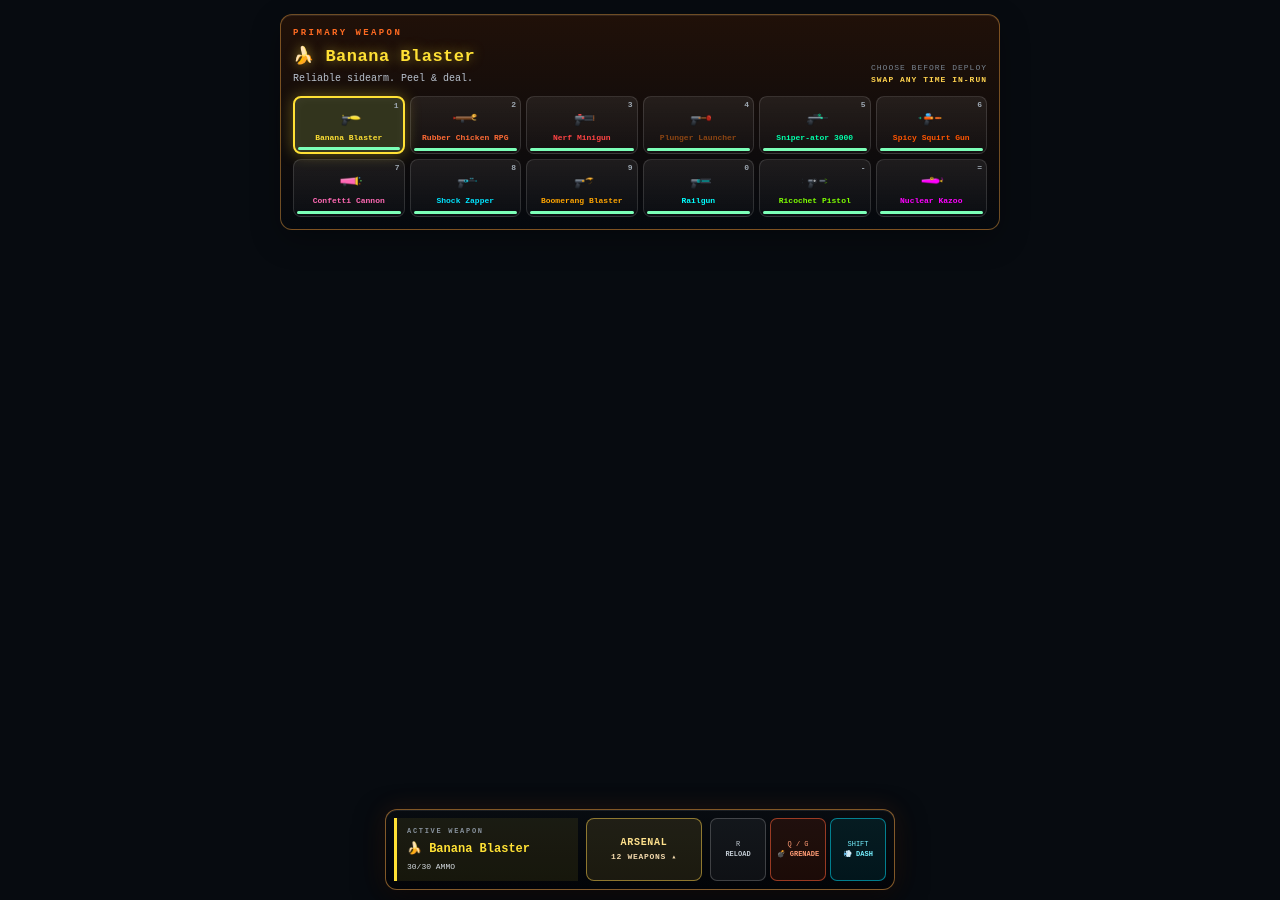
Test: WeaponDock › keeps twelve pre-run choices but collapses the combat dock until requested
Click the button "ARSENAL 12 WEAPONS ▴".
click(644, 849)  # box top-left (586, 818), bottom-right (702, 881)
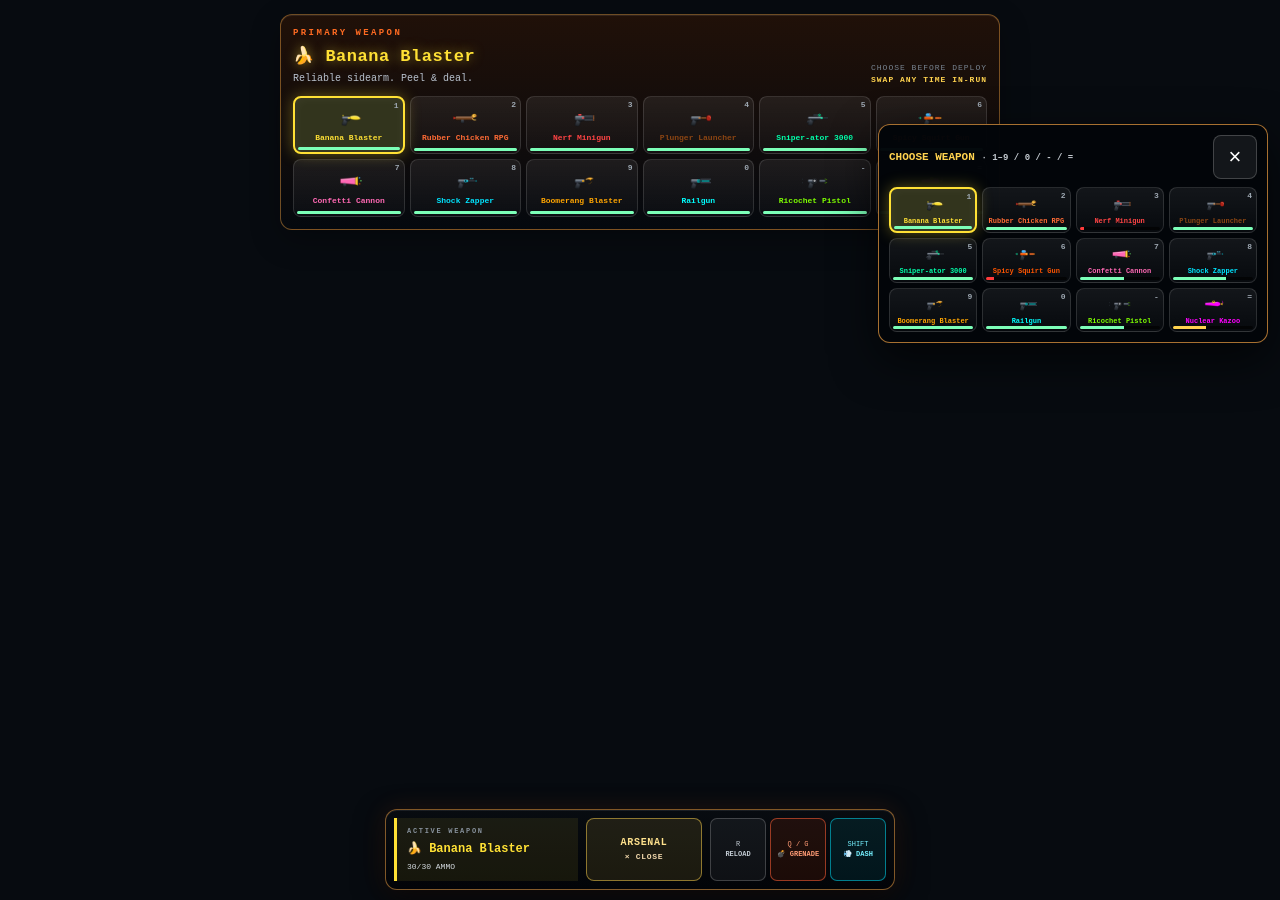
Click the button with class "weapon-dock__weapon" below "CHOOSE WEAPON".
click(933, 260)  # box top-left (889, 238), bottom-right (977, 283)
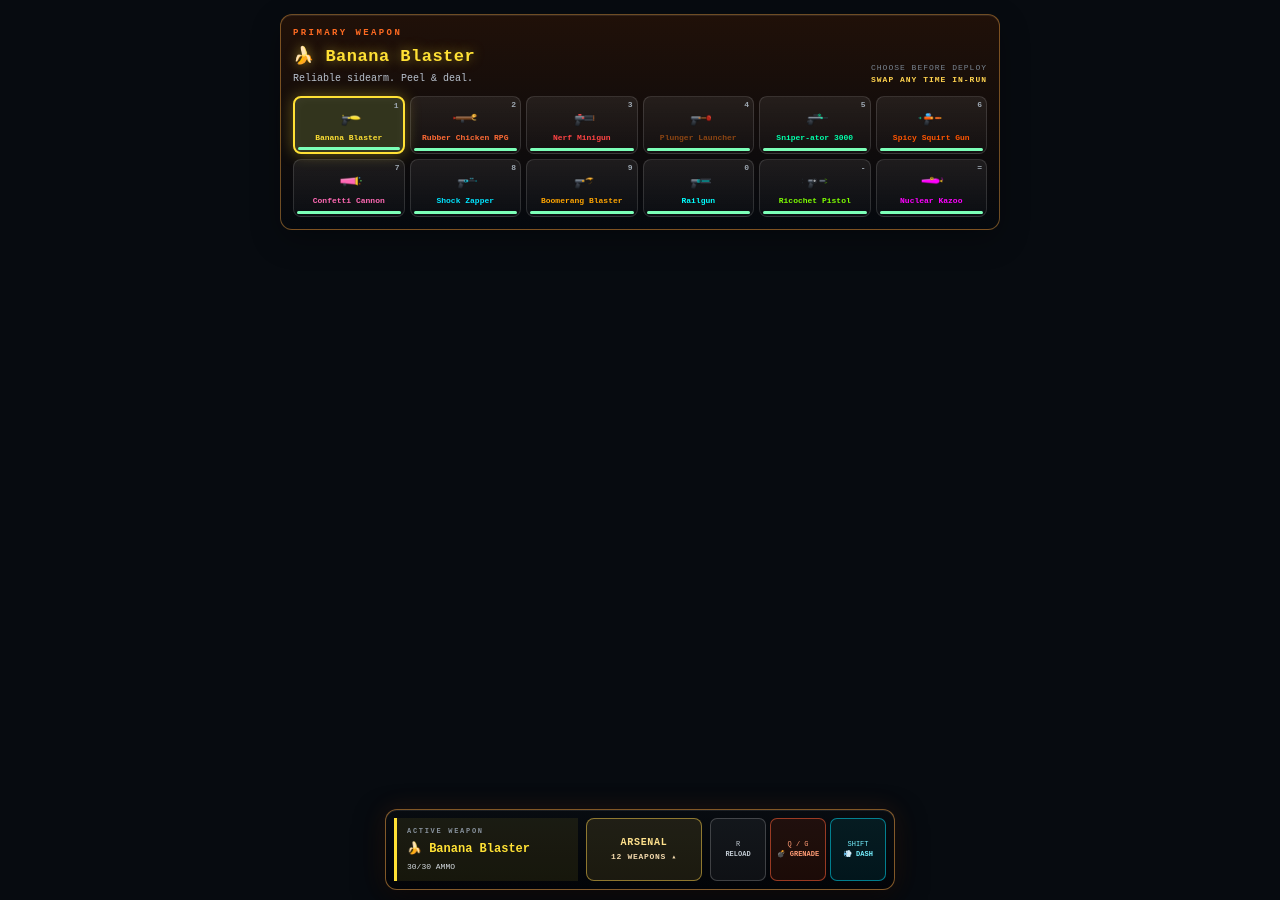
Check: the element named "Weapons" is gone
